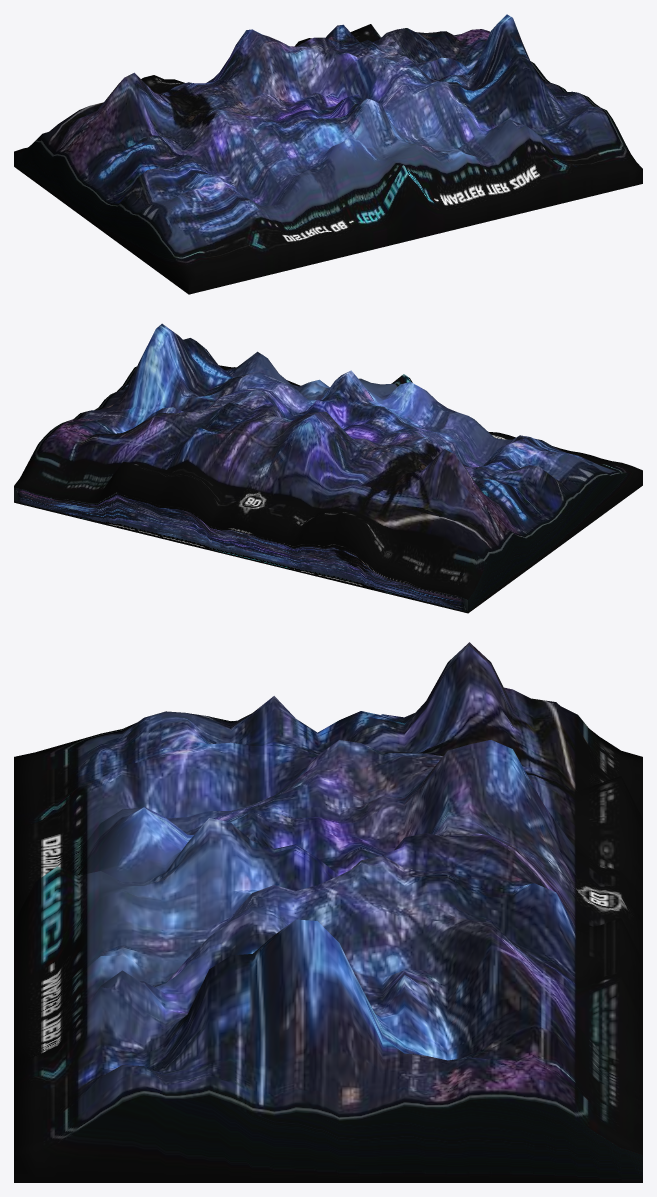
The model's file is DISTRICT_08_Tech_District.glb.
3 renders of one model, top to bottom at view 1: azimuth 30°, elevation 25°; view 2: azimuth 150°, elevation 25°; view 3: azimuth 270°, elevation 25°, orthographic. The views are drawn at different scales.
Visible parts, largest first — view 1: DISTRICT_08_Tech_District; view 2: DISTRICT_08_Tech_District; view 3: DISTRICT_08_Tech_District.
Boxes of the visible parts, x1,y1,x2,y2 form: DISTRICT_08_Tech_District: (14, 14, 642, 294); DISTRICT_08_Tech_District: (14, 323, 642, 613); DISTRICT_08_Tech_District: (14, 642, 642, 1182).
Size of the model in its own units: 2 by 0.51 by 1.33.
1 material, 1 textured.
